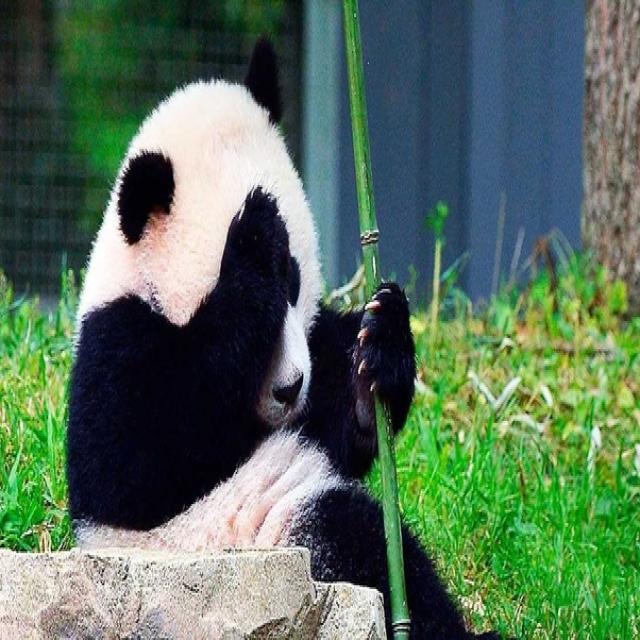Herbivorous: (65, 42, 424, 632)
